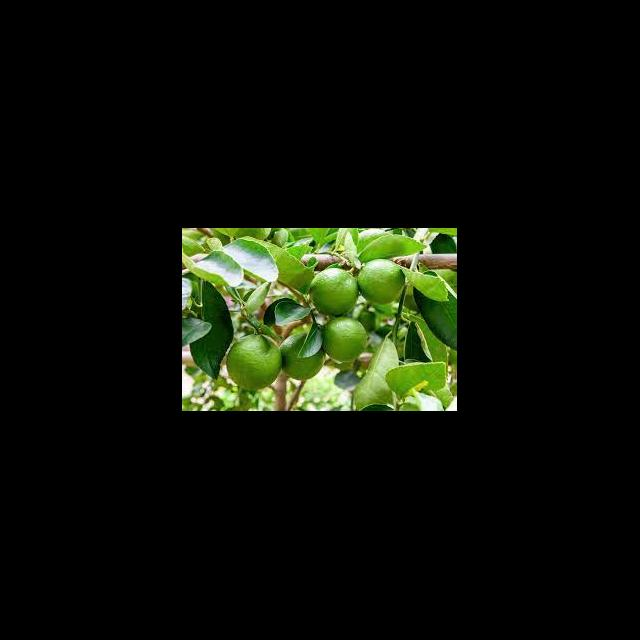lime: (226, 334, 282, 392), (280, 324, 326, 382), (310, 268, 360, 318), (322, 318, 368, 368), (358, 260, 406, 306)
